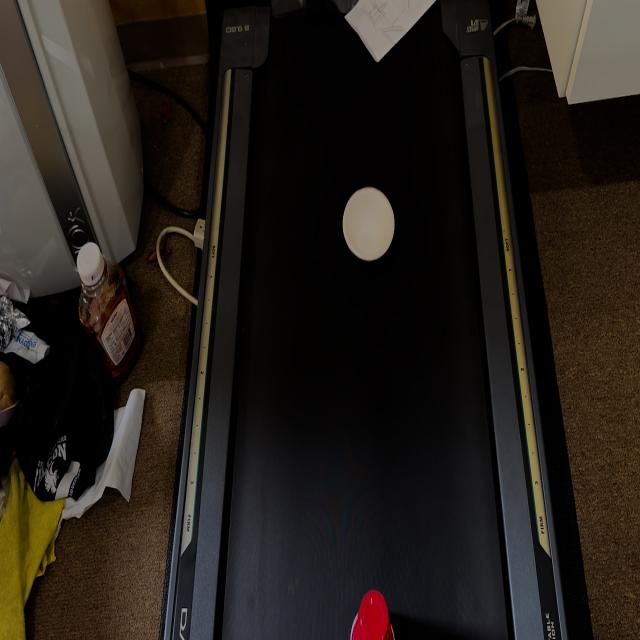Recycle: (342, 0, 436, 61), (342, 185, 396, 265), (349, 592, 394, 639)
